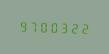nine: (17, 18, 26, 33)
seven: (27, 19, 36, 33)
three: (57, 20, 66, 34)
two: (77, 20, 86, 35), (67, 20, 76, 34)
zero: (47, 19, 56, 34), (37, 19, 46, 33)
